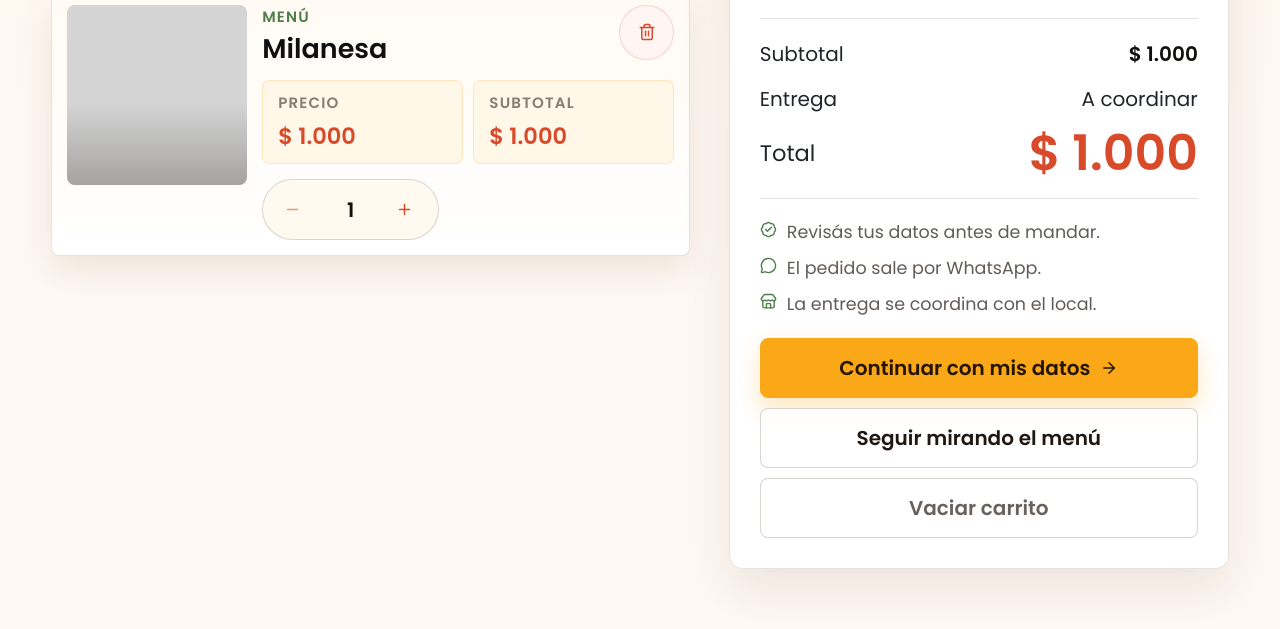
Test case: CartPage integration › clears the cart and returns to the empty state safely
The width and height of the screenshot is (1280, 629).
(page scrolled)
Step 1. Click the button "Vaciar carrito" → x=979, y=508, box [760,478,1198,538]
(page scrolled)
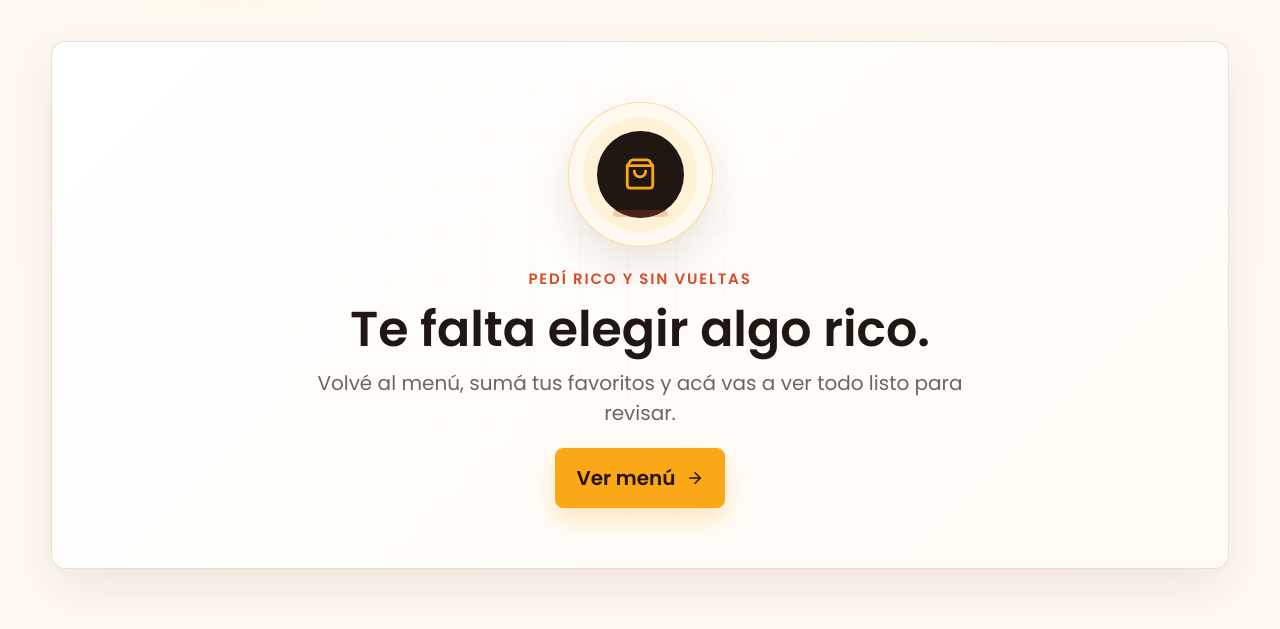
Check: the heading "Te falta elegir algo rico." is shown, box [350,295,930,363]
